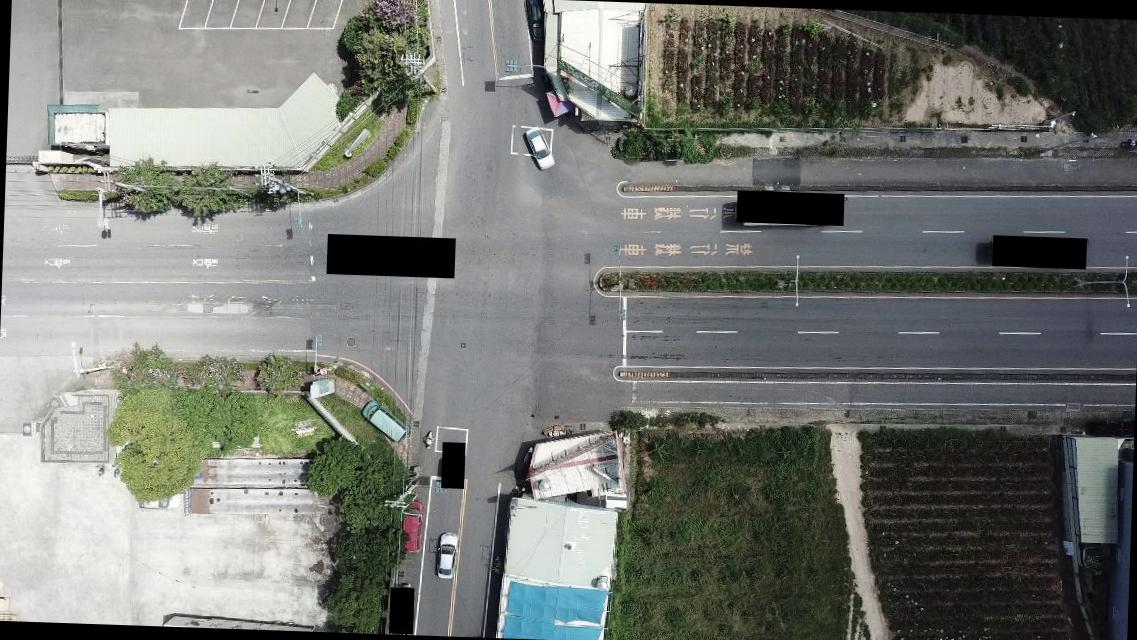vehicle: (359, 398, 412, 442), (520, 120, 556, 170), (400, 500, 428, 554), (434, 528, 458, 580), (522, 0, 546, 47), (138, 487, 180, 512)
